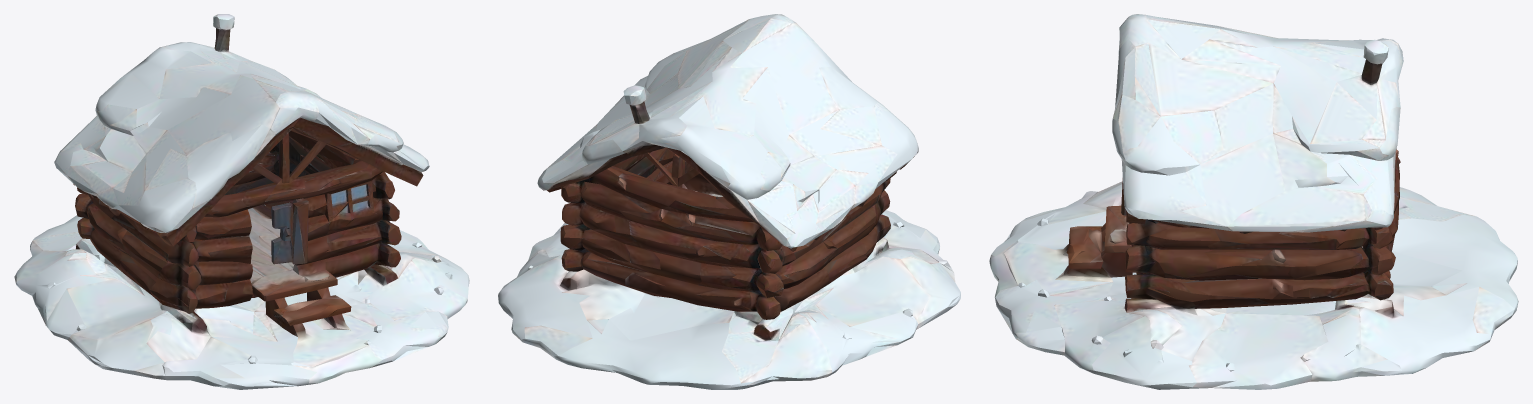
The model's file is ruin_cabin.glb.
The picture shows the model from 3 angles, left to right: view 1: azimuth 30°, elevation 25°; view 2: azimuth 150°, elevation 25°; view 3: azimuth 270°, elevation 25°; orthographic projection. The views are drawn at different scales.
Size of the model in its own units: 1.78 by 1.07 by 1.9.
1 material, 1 textured.
